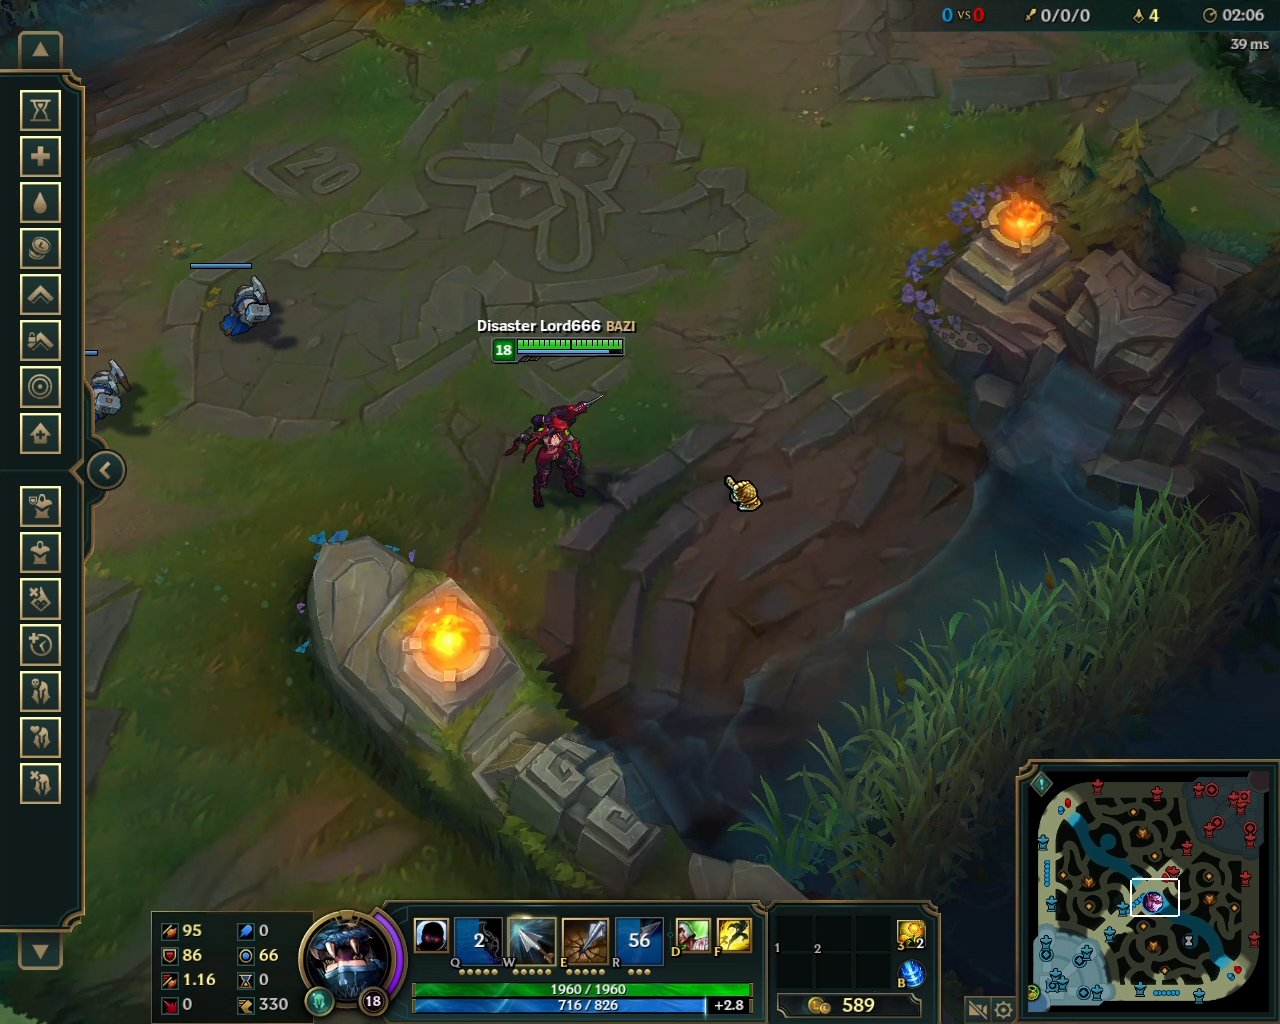Vayne: (501, 390, 611, 514)
